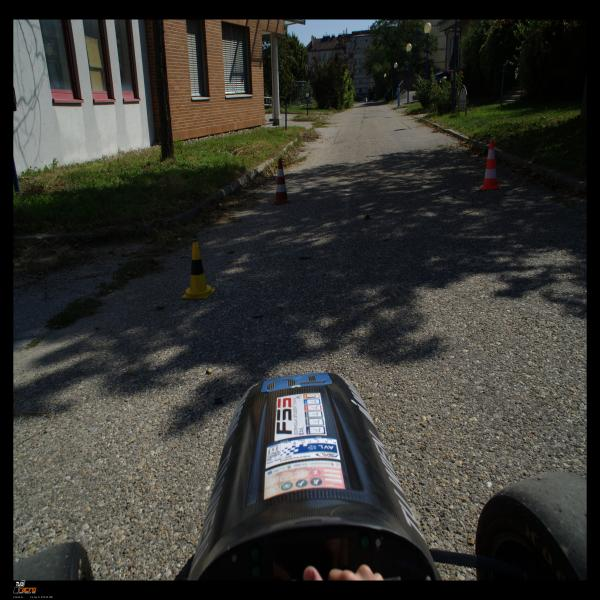large_orange_cone: (479, 140, 502, 190), (272, 159, 291, 204)
yellow_cone: (182, 242, 215, 298)
